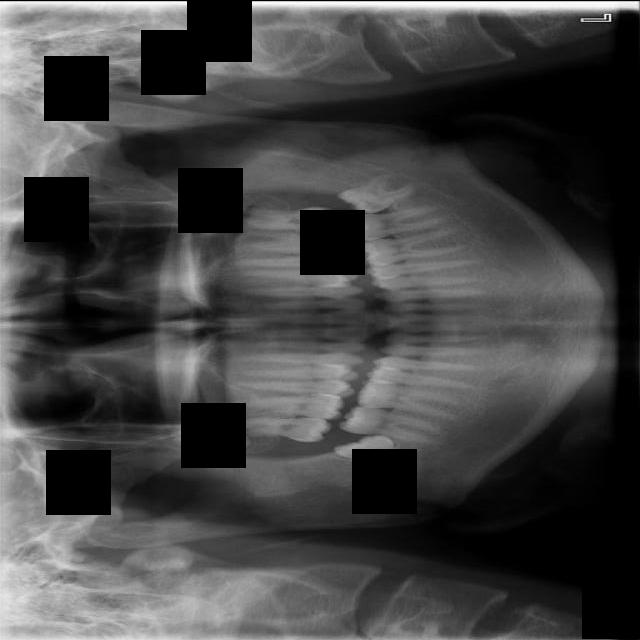3M ESPE Implant: (172, 427, 251, 454)
73: (584, 26, 592, 32)
BioHorizons Implant: (230, 205, 340, 232)
Biomet 3i Implant: (336, 160, 420, 225)
Blue Sky Bio Implant: (343, 202, 449, 243)
Caries: (220, 412, 333, 443)
Implant: (338, 399, 448, 451)
Keystone Dental Implant: (333, 427, 408, 488)
